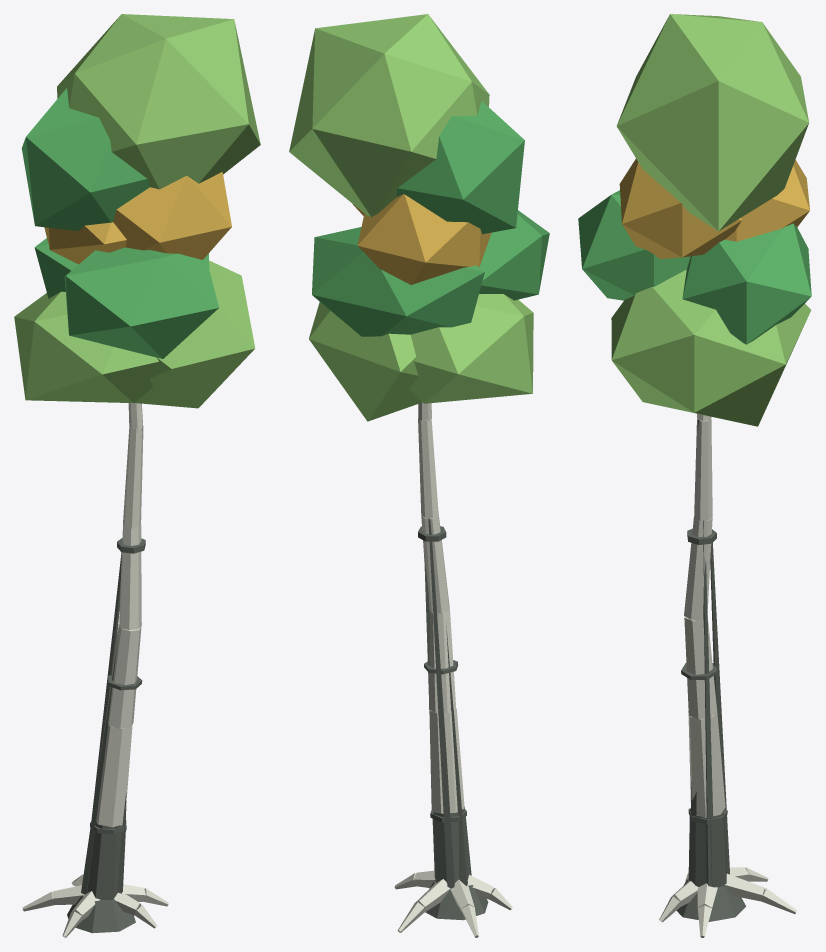
Rendered from tree_birch_b.glb.
3 views of the same model, side by side, from view 1: azimuth 30°, elevation 25°; view 2: azimuth 150°, elevation 25°; view 3: azimuth 270°, elevation 25° (orthographic). The views are drawn at different scales.
Parts seen in each view (by area): view 1: TreeBirchB; view 2: TreeBirchB; view 3: TreeBirchB.
Part boxes in pixels (left/top/right/bottom): TreeBirchB: left=14, top=14, right=260, bottom=937; TreeBirchB: left=289, top=14, right=549, bottom=937; TreeBirchB: left=578, top=14, right=811, bottom=937.
Bounding box in the file's own units: 4.34 × 15.16 × 3.5.
